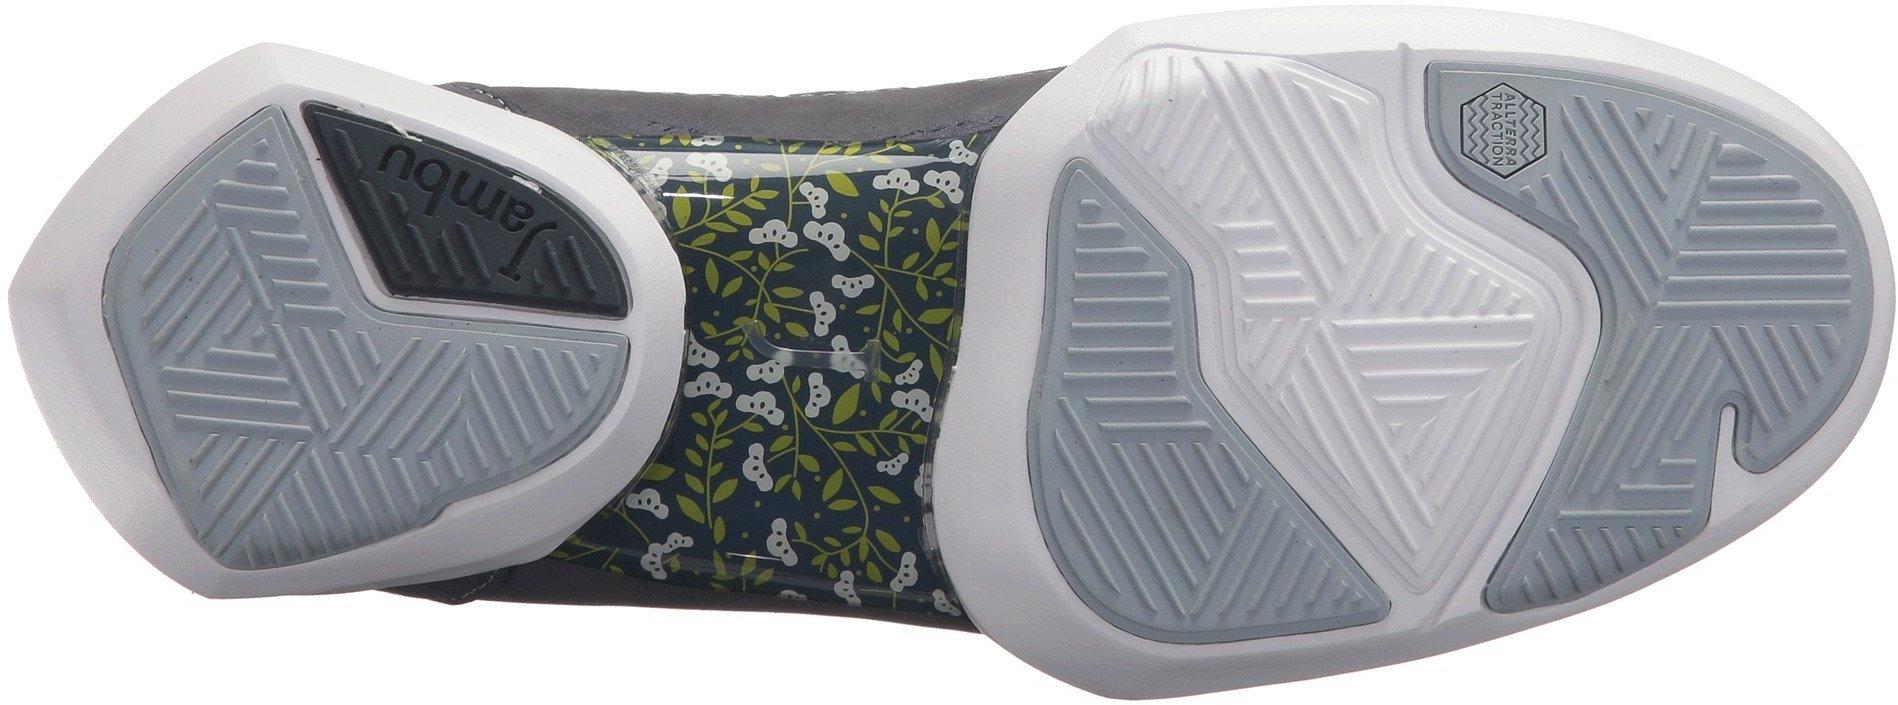chevron: (1057, 407, 1299, 637), (1316, 311, 1532, 537), (157, 263, 339, 454), (1444, 69, 1571, 207)
line: (1057, 407, 1299, 637), (1316, 311, 1532, 537), (343, 122, 569, 299), (157, 263, 339, 454)
polygon: (1444, 69, 1571, 207)
text: (343, 122, 569, 299), (1444, 69, 1571, 207)
triangle: (1316, 311, 1532, 537)
